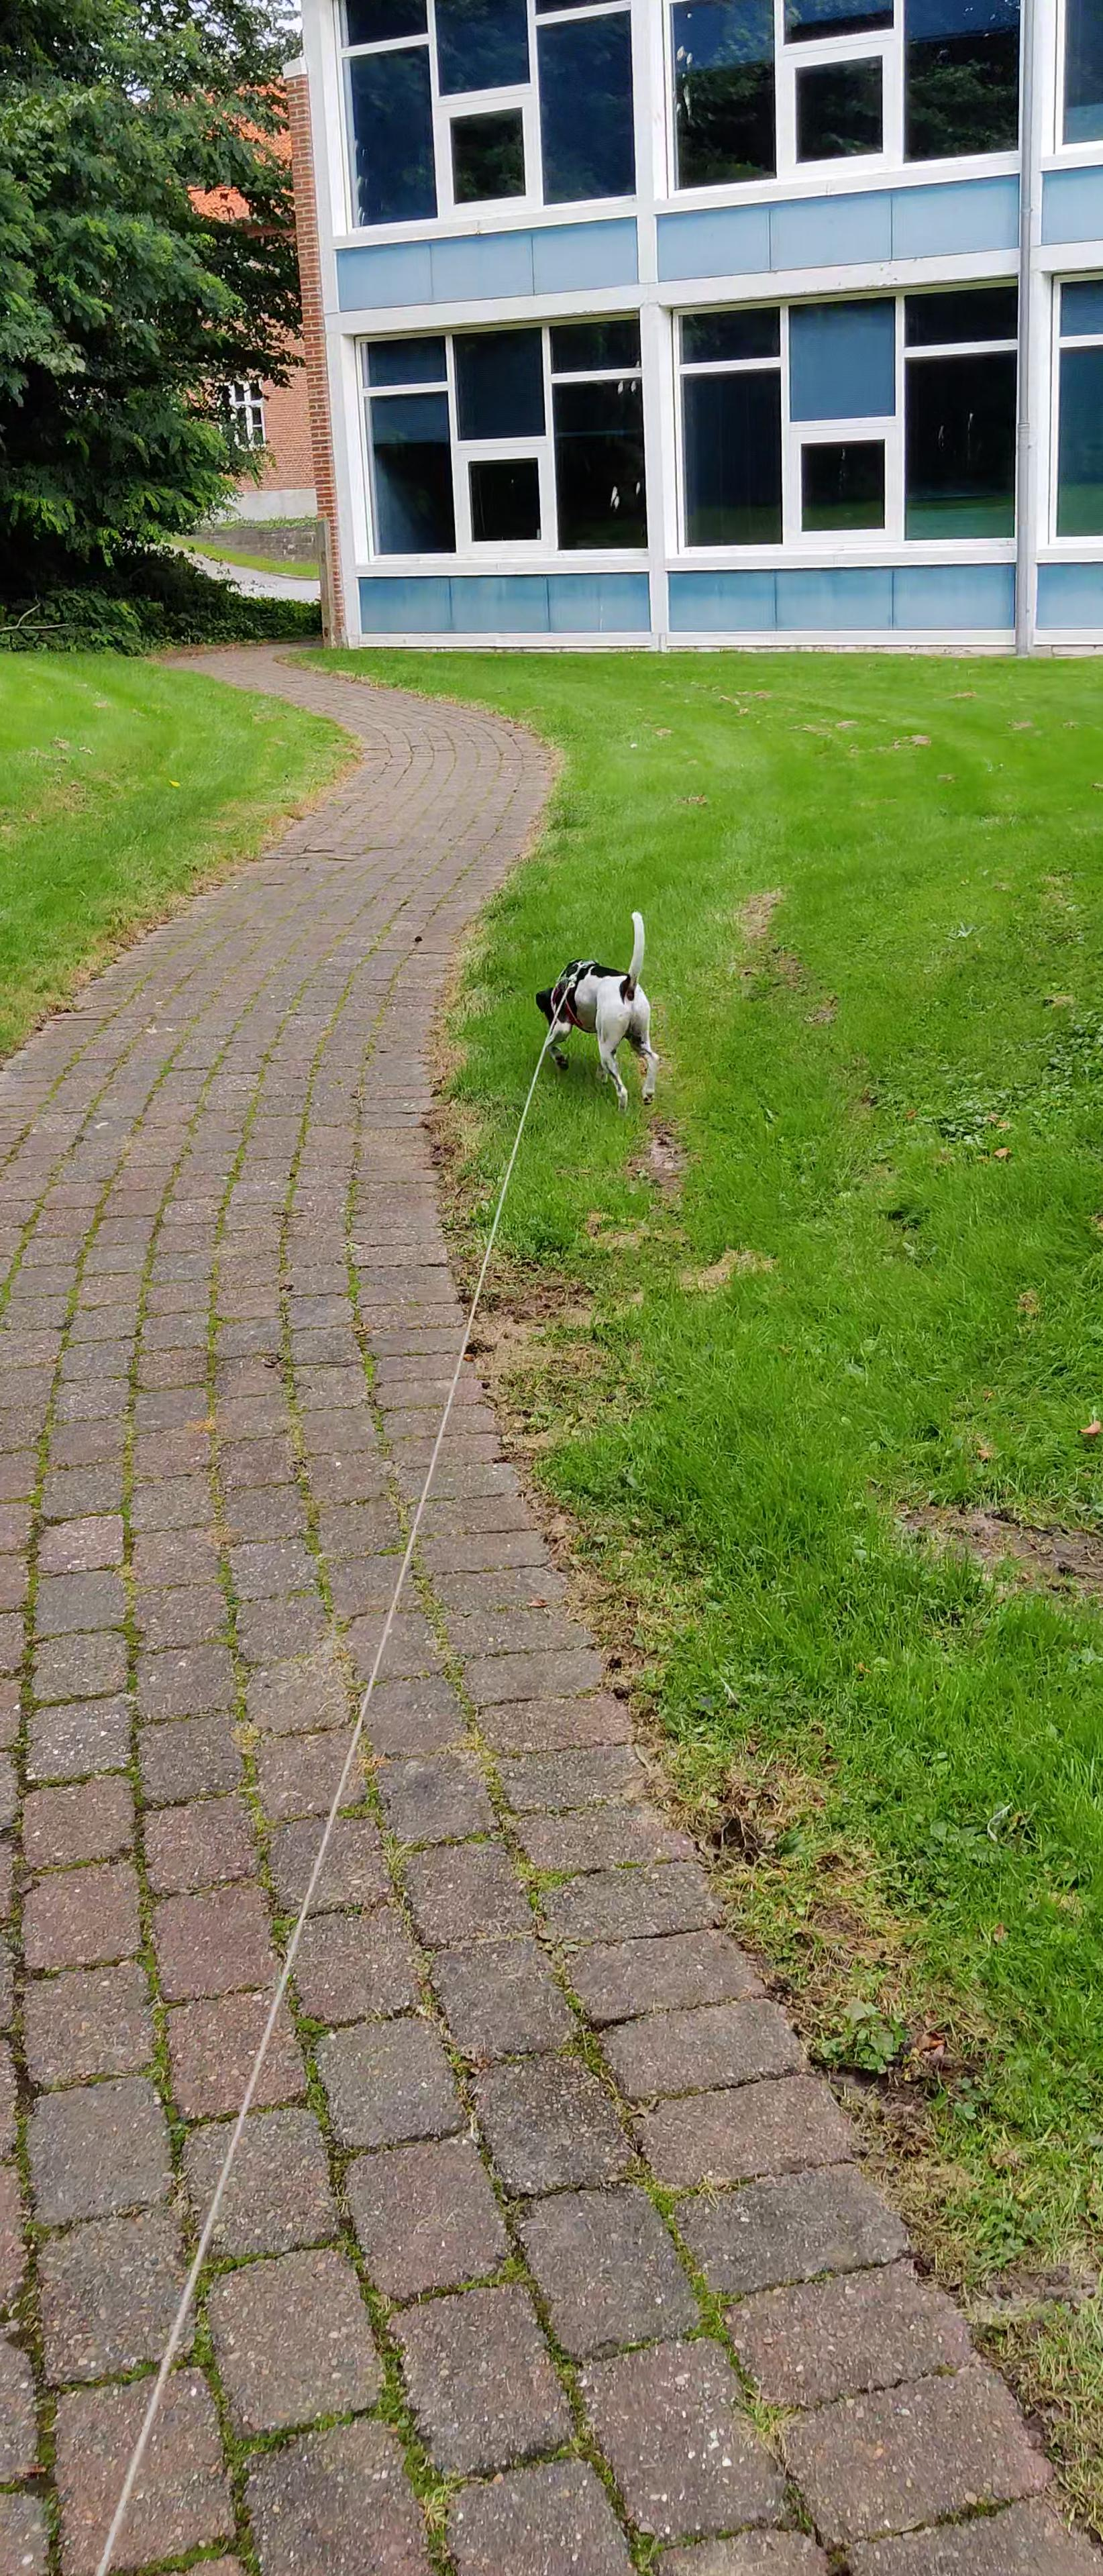Dog: (529, 905, 664, 1115)
